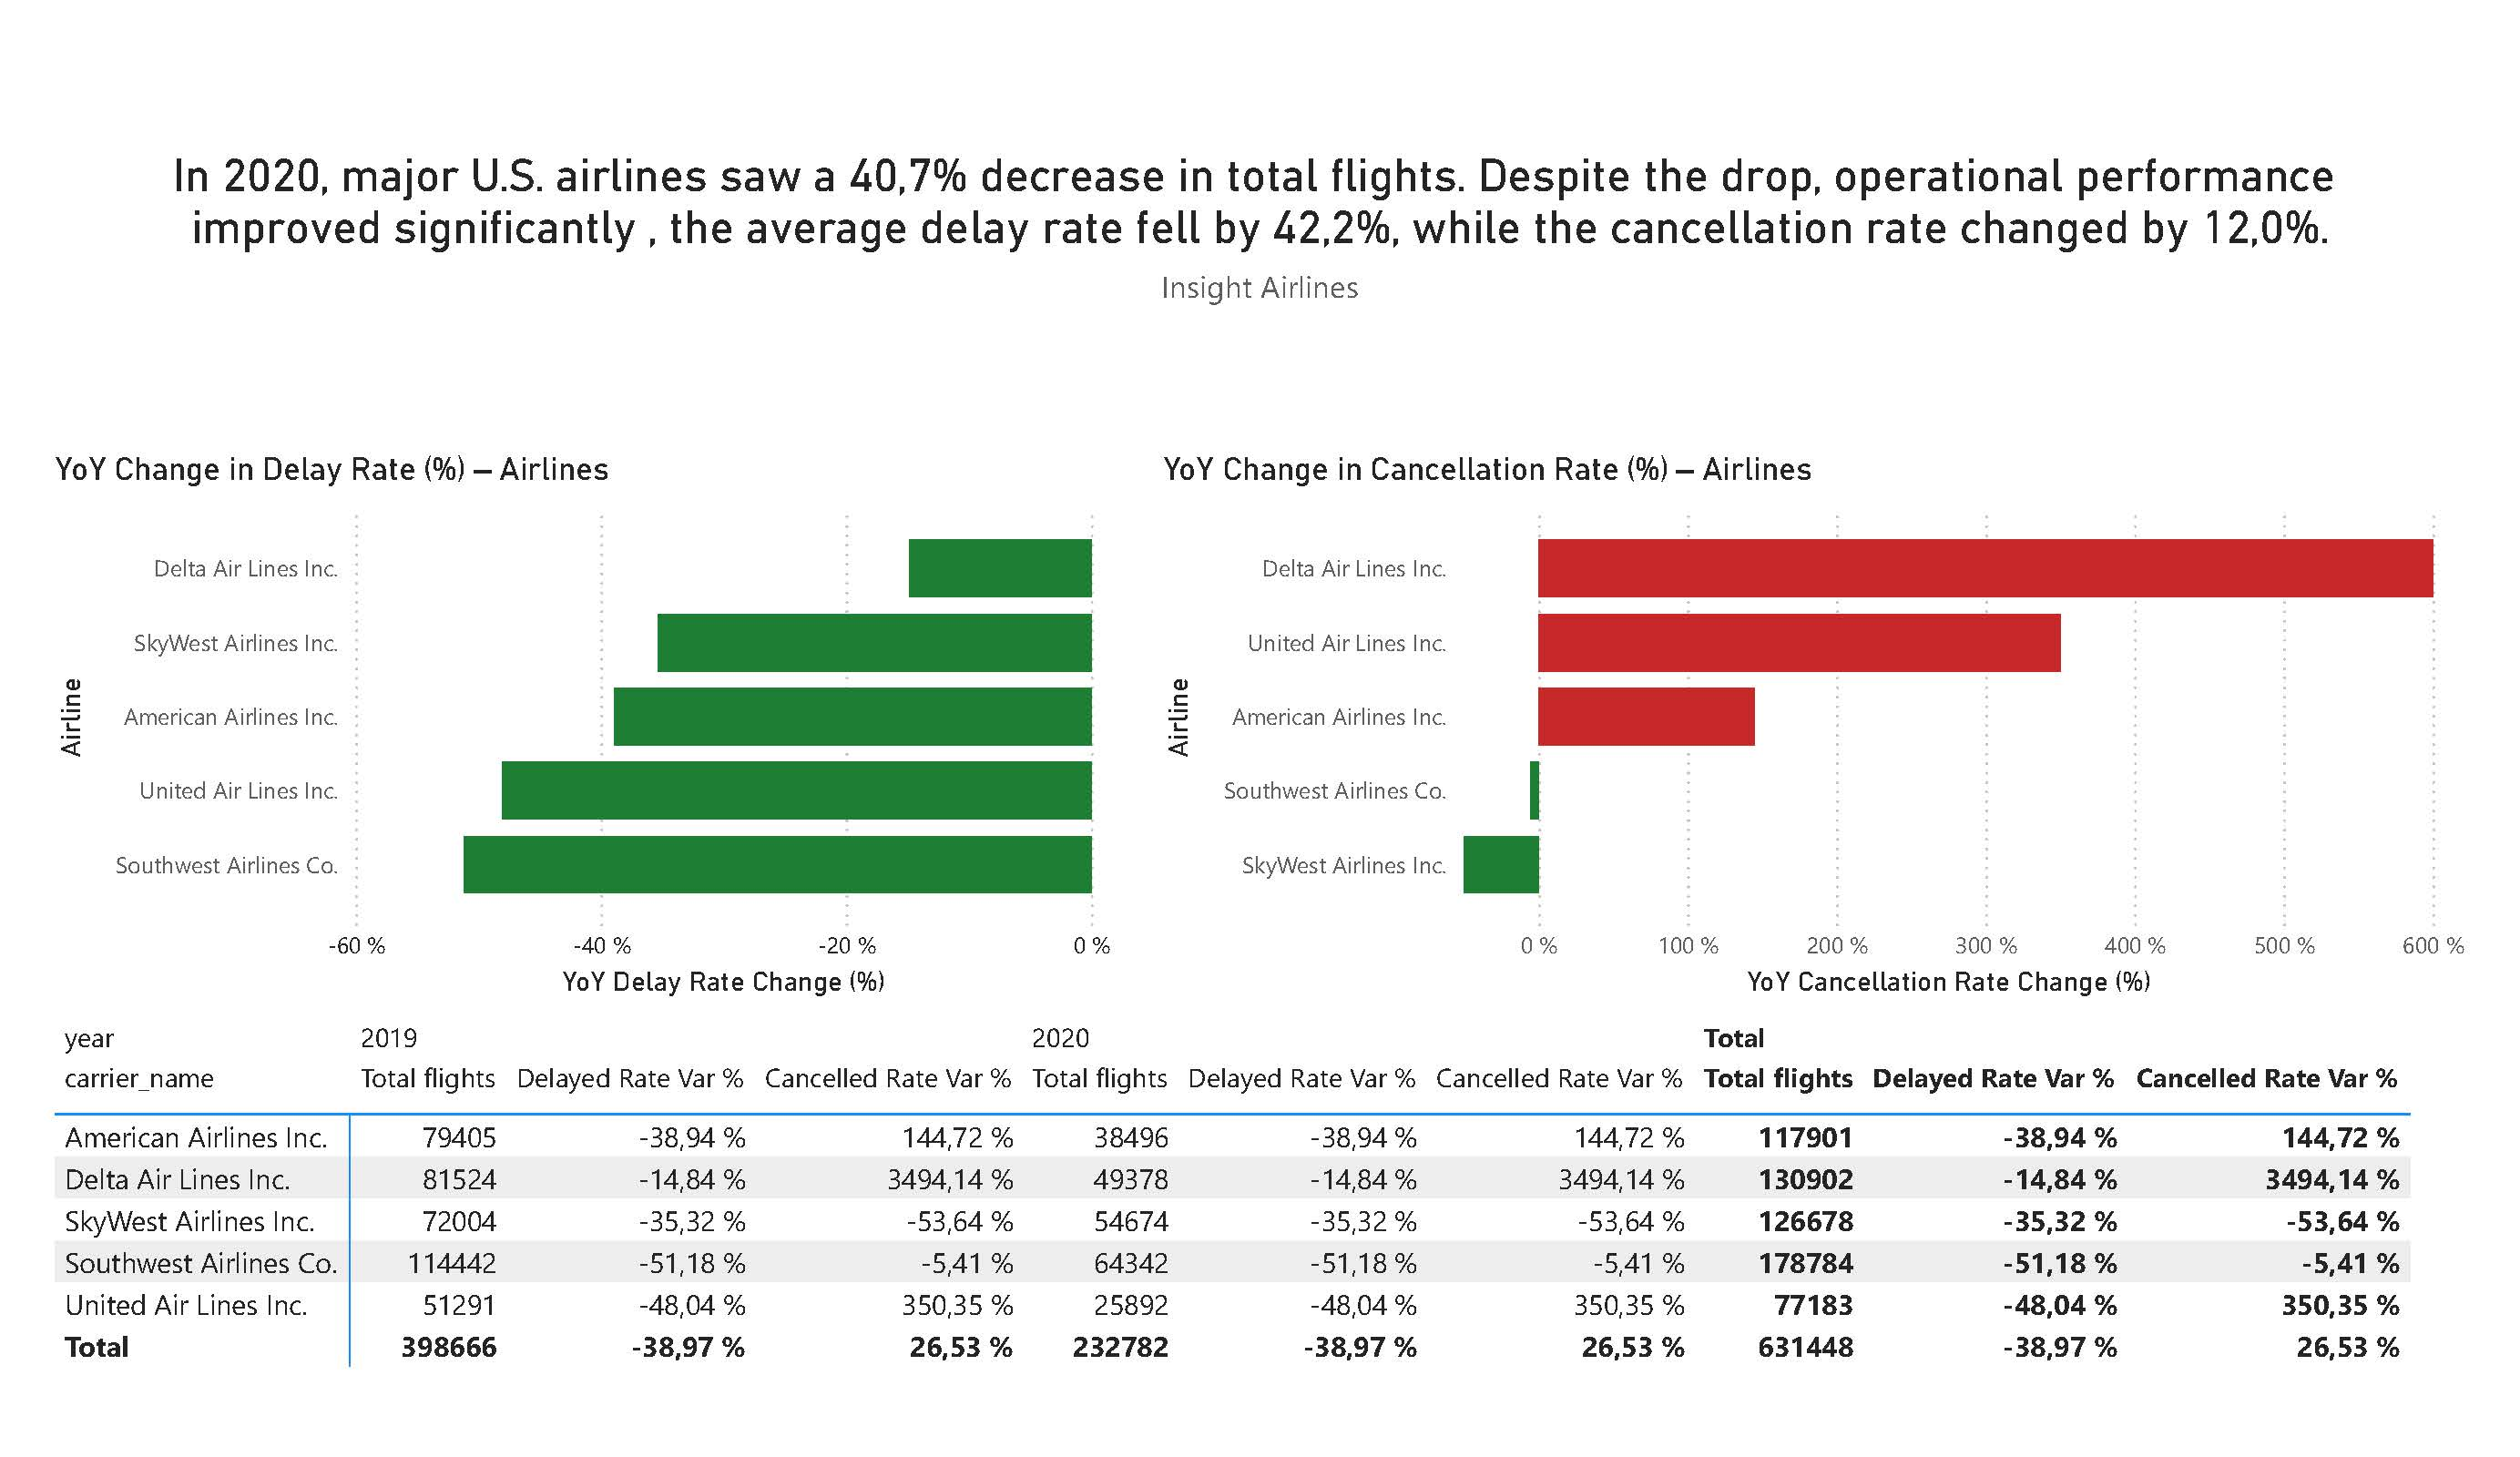

The dashboard page shown, as its layout file describes it:
{"tool":"powerbi","page":{"name":"Airline Performance","canvas":[1280,720],"ordinal":2},"visuals":[{"type":"barChart","title":"YoY Change in Delay Rate (%) – Airlines","fields":{"Category":["dim_carrier.carrier_name"],"Y":["_Mesures.Delayed Rate Var %"]},"box":[0,213.1,566.1,292.9],"z":0},{"type":"barChart","title":"YoY Change in Cancellation Rate (%) – Airlines","fields":{"Y":["_Mesures.Cancelled Rate Var %"],"Category":["dim_carrier.carrier_name"]},"box":[584.4,213.1,695.6,292.9],"z":1000},{"type":"card","fields":{"Values":["_Mesures.Insight Airlines (EN)"]},"box":[0,0,1280,183],"z":2000},{"type":"pivotTable","fields":{"Columns":["dim_date.year"],"Values":["_Mesures.Total flights","_Mesures.Delayed Rate Var %","_Mesures.Cancelled Rate Var %"],"Rows":["dim_carrier.carrier_name"]},"box":[0,507.3,1280,214.4],"z":3000}]}

Visuals, with their boxes on the page's 1280x720 design canvas (x1, y1, x2, y2). These are canvas units, not pixel positions in the 2520x1457 screenshot, which may show the page scaled, cropped or inside an application window:
"YoY Change in Delay Rate (%) – Airlines" barChart: {"left": 0, "top": 213, "right": 566, "bottom": 506}
"YoY Change in Cancellation Rate (%) – Airlines" barChart: {"left": 584, "top": 213, "right": 1280, "bottom": 506}
card - _Mesures.Insight Airlines (EN): {"left": 0, "top": 0, "right": 1280, "bottom": 183}
pivotTable - dim_date.year x _Mesures.Total flights: {"left": 0, "top": 507, "right": 1280, "bottom": 722}
